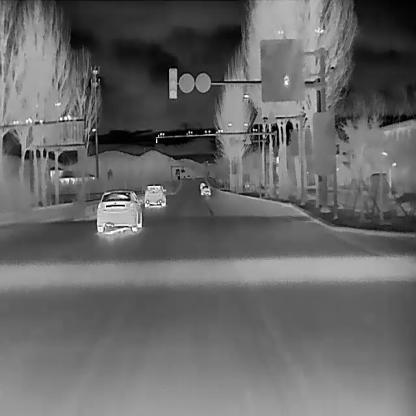car: (96, 188, 143, 232), (142, 183, 165, 206), (200, 184, 211, 195)
